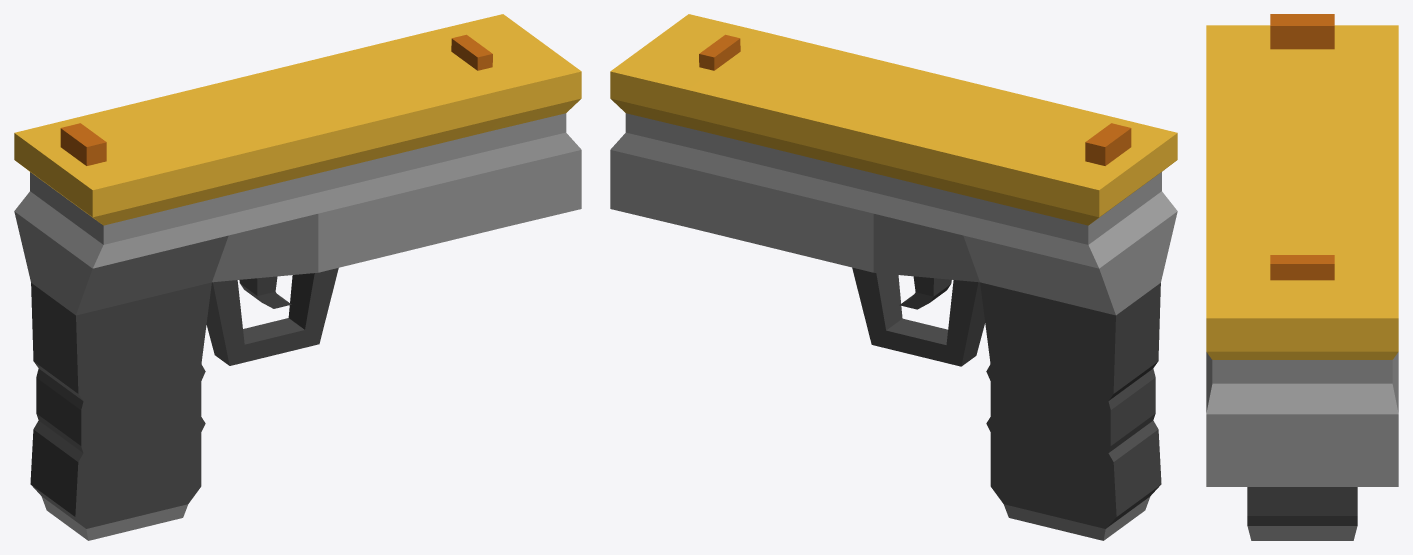
3 renders of one model, left to right at view 1: azimuth 30°, elevation 25°; view 2: azimuth 150°, elevation 25°; view 3: azimuth 270°, elevation 25°, orthographic. The views are drawn at different scales.
Visible parts, largest first — view 1: Cube; view 2: Cube; view 3: Cube.
Part boxes in pixels (x1,y1,x2,y2): Cube: (14, 14, 581, 540); Cube: (610, 14, 1177, 540); Cube: (1206, 14, 1398, 540).
Bounding box in the file's own units: 720 × 543 × 200.
Materials: 1 (1 with a texture image).
